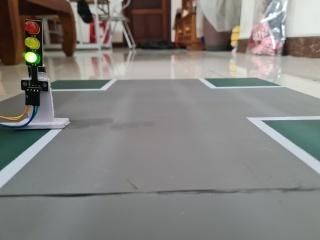green: (12, 14, 57, 78)
